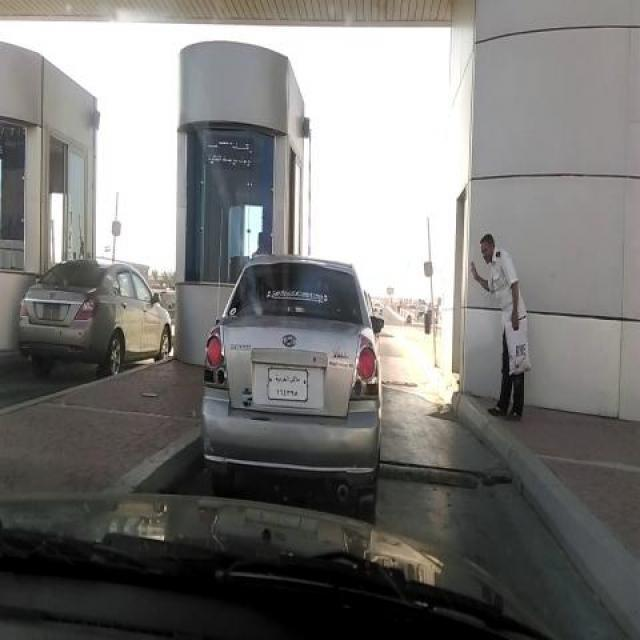Unmarked Bump: (380, 457, 516, 492), (382, 377, 417, 388)
